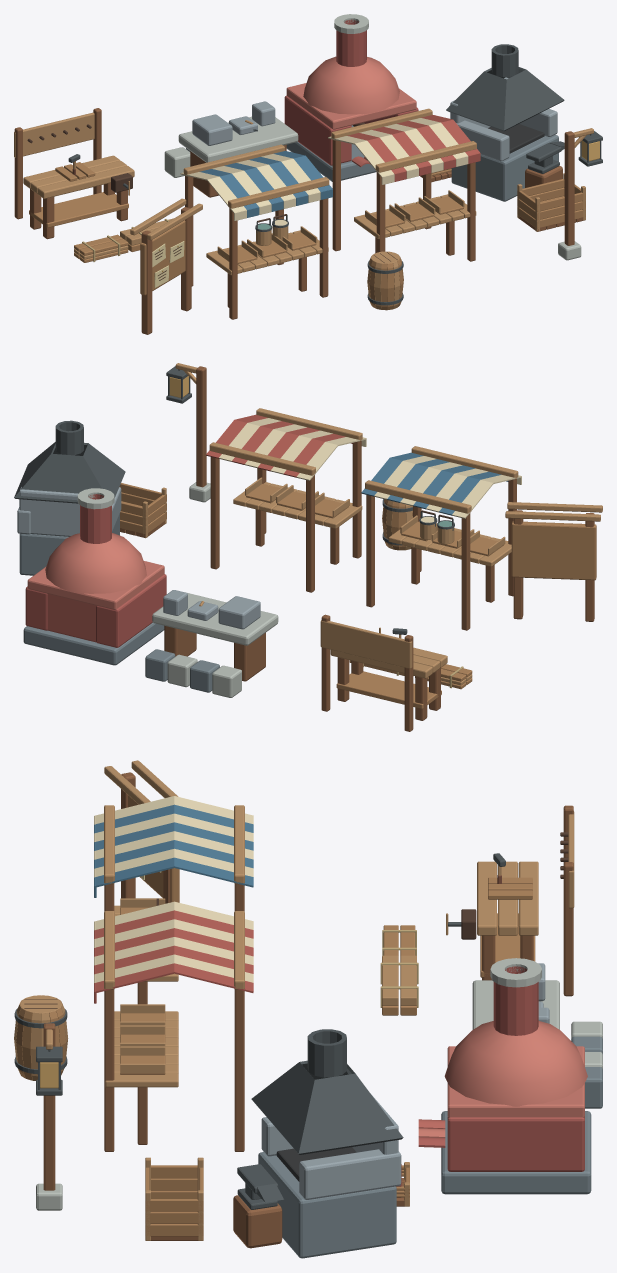
Rendered from guild_market_yard.glb.
The picture shows the model from 3 angles, top to bottom: view 1: azimuth 30°, elevation 25°; view 2: azimuth 150°, elevation 25°; view 3: azimuth 270°, elevation 25°; orthographic projection. The views are drawn at different scales.
Visible parts, largest first — view 1: market_stall_red_2m.001, market_stall_blue_2m.001, workshop_blacksmith_forge.001, workshop_tile_kiln.001, workshop_carpenter_station.001, workshop_mason_station.001, village_notice_board.002, market_crate_oak.002, village_lantern_post.003, market_barrel_oak.002, goods_planks_bundle.001, goods_paint_pails.001 (+1 smaller); view 2: workshop_tile_kiln.001, market_stall_red_2m.001, market_stall_blue_2m.001, workshop_mason_station.001, workshop_blacksmith_forge.001, workshop_carpenter_station.001, village_notice_board.002, village_lantern_post.003, market_crate_oak.002, market_barrel_oak.002, goods_paint_pails.001, goods_planks_bundle.001; view 3: workshop_tile_kiln.001, workshop_blacksmith_forge.001, market_stall_red_2m.001, market_stall_blue_2m.001, workshop_carpenter_station.001, market_crate_oak.002, workshop_mason_station.001, village_lantern_post.003, market_barrel_oak.002, village_notice_board.002, goods_beams_bundle.001, goods_planks_bundle.001.
Part boxes in pixels (x1,y1,x2,y2): market_stall_red_2m.001: [328, 108, 480, 261]; market_stall_blue_2m.001: [180, 144, 332, 319]; workshop_blacksmith_forge.001: [446, 44, 564, 201]; workshop_tile_kiln.001: [284, 14, 418, 181]; workshop_carpenter_station.001: [14, 108, 134, 239]; workshop_mason_station.001: [164, 101, 298, 197]; village_notice_board.002: [130, 198, 202, 334]; market_crate_oak.002: [517, 173, 585, 231]; village_lantern_post.003: [558, 128, 602, 260]; market_barrel_oak.002: [367, 251, 403, 310]; goods_planks_bundle.001: [74, 234, 128, 262]; goods_paint_pails.001: [255, 214, 288, 245]; workshop_tile_kiln.001: [23, 488, 166, 665]; market_stall_red_2m.001: [206, 408, 366, 592]; market_stall_blue_2m.001: [361, 446, 521, 630]; workshop_mason_station.001: [145, 590, 278, 697]; workshop_blacksmith_forge.001: [14, 420, 125, 575]; workshop_carpenter_station.001: [320, 614, 447, 731]; village_notice_board.002: [505, 502, 602, 621]; village_lantern_post.003: [166, 363, 210, 502]; market_crate_oak.002: [119, 483, 166, 538]; market_barrel_oak.002: [382, 499, 412, 550]; goods_paint_pails.001: [419, 510, 454, 544]; goods_planks_bundle.001: [415, 664, 472, 689]; workshop_tile_kiln.001: [418, 958, 591, 1194]; workshop_blacksmith_forge.001: [233, 1029, 403, 1258]; market_stall_red_2m.001: [94, 901, 253, 1151]; market_stall_blue_2m.001: [94, 796, 253, 1004]; workshop_carpenter_station.001: [446, 805, 574, 996]; market_crate_oak.002: [145, 1157, 203, 1240]; workshop_mason_station.001: [472, 963, 602, 1108]; village_lantern_post.003: [36, 1023, 62, 1210]; market_barrel_oak.002: [14, 995, 68, 1080]; village_notice_board.002: [104, 760, 179, 903]; goods_beams_bundle.001: [380, 955, 418, 1015]; goods_planks_bundle.001: [382, 925, 416, 955].
Size of the model in its own units: 9.94 by 2.59 by 7.06.
